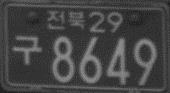2: (88, 10, 105, 35)
4: (104, 36, 130, 86)
6: (78, 35, 102, 84)
8: (51, 35, 75, 84)
9: (133, 37, 158, 86), (106, 10, 123, 35)
구: (11, 35, 43, 65)
전북_O: (47, 9, 85, 31)
